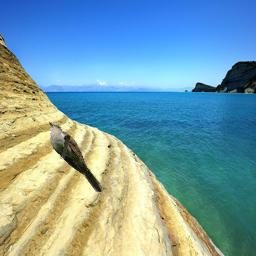Cuckoo: (49, 122, 103, 192)
